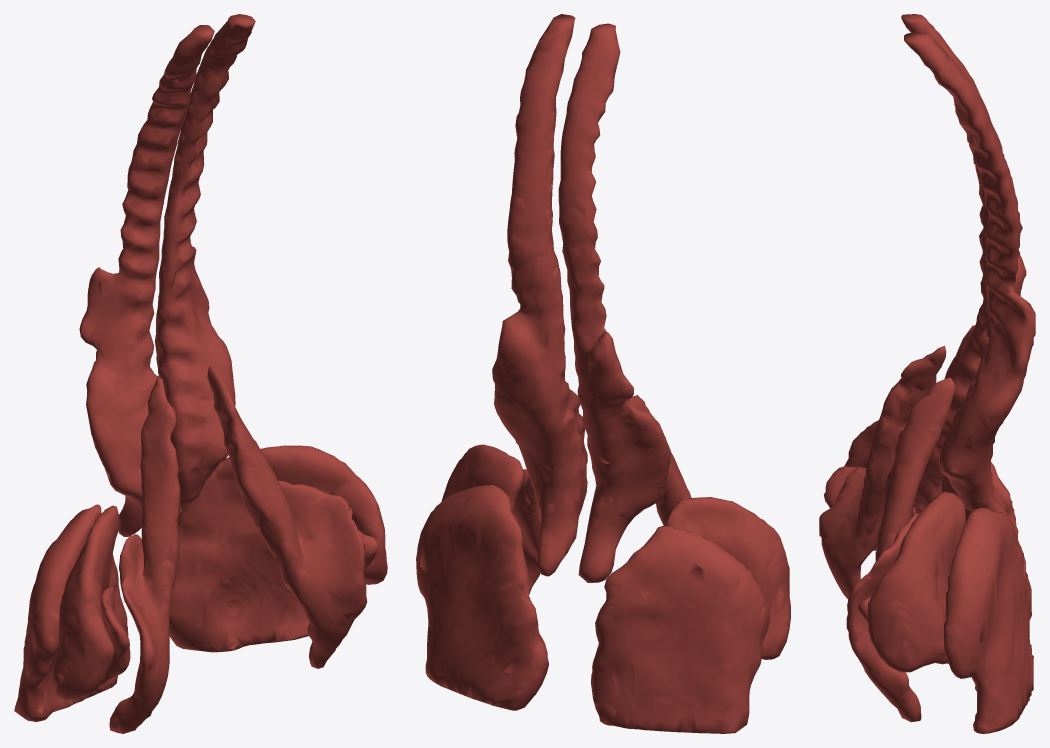
The model's file is tsd_s0196_older_adult_female.muscular.LOD3.glb.
3 renders of one model, left to right at view 1: azimuth 30°, elevation 25°; view 2: azimuth 150°, elevation 25°; view 3: azimuth 270°, elevation 25°, orthographic. The views are drawn at different scales.
Visible parts, largest first — view 1: TSD_S0196.OLDER_ADULT.FEMALE.MUSCULAR.ERECTOR_SPINAE_AUTOCHT (×2), TSD_S0196.OLDER_ADULT.FEMALE.MUSCULAR.GLUTEUS_MAXIMUS.L, TSD_S0196.OLDER_ADULT.FEMALE.MUSCULAR.ILIOPSOAS.L, TSD_S0196.OLDER_ADULT.FEMALE.MUSCULAR.ILIOPSOAS.R, TSD_S0196.OLDER_ADULT.FEMALE.MUSCULAR.GLUTEUS_MAXIMUS.R, TSD_S0196.OLDER_ADULT.FEMALE.MUSCULAR.GLUTEUS_MEDIUS.R, TSD_S0196.OLDER_ADULT.FEMALE.MUSCULAR.GLUTEUS_MEDIUS.L, TSD_S0196.OLDER_ADULT.FEMALE.MUSCULAR.GLUTEUS_MINIMUS.R; view 2: TSD_S0196.OLDER_ADULT.FEMALE.MUSCULAR.ERECTOR_SPINAE_AUTOCHT (×2), TSD_S0196.OLDER_ADULT.FEMALE.MUSCULAR.GLUTEUS_MAXIMUS.R, TSD_S0196.OLDER_ADULT.FEMALE.MUSCULAR.GLUTEUS_MAXIMUS.L, TSD_S0196.OLDER_ADULT.FEMALE.MUSCULAR.GLUTEUS_MEDIUS.R, TSD_S0196.OLDER_ADULT.FEMALE.MUSCULAR.GLUTEUS_MEDIUS.L, TSD_S0196.OLDER_ADULT.FEMALE.MUSCULAR.ILIOPSOAS.L, TSD_S0196.OLDER_ADULT.FEMALE.MUSCULAR.ILIOPSOAS.R; view 3: TSD_S0196.OLDER_ADULT.FEMALE.MUSCULAR.ERECTOR_SPINAE_AUTOCHT (×2), TSD_S0196.OLDER_ADULT.FEMALE.MUSCULAR.GLUTEUS_MAXIMUS.L, TSD_S0196.OLDER_ADULT.FEMALE.MUSCULAR.GLUTEUS_MEDIUS.L, TSD_S0196.OLDER_ADULT.FEMALE.MUSCULAR.ILIOPSOAS.L, TSD_S0196.OLDER_ADULT.FEMALE.MUSCULAR.ILIOPSOAS.R, TSD_S0196.OLDER_ADULT.FEMALE.MUSCULAR.GLUTEUS_MEDIUS.R, TSD_S0196.OLDER_ADULT.FEMALE.MUSCULAR.GLUTEUS_MAXIMUS.R, TSD_S0196.OLDER_ADULT.FEMALE.MUSCULAR.GLUTEUS_MINIMUS.R.
Part boxes in pixels (bbox=[...]): TSD_S0196.OLDER_ADULT.FEMALE.MUSCULAR.ERECTOR_SPINAE_AUTOCHT (×2): bbox=[79, 14, 255, 536]; TSD_S0196.OLDER_ADULT.FEMALE.MUSCULAR.GLUTEUS_MAXIMUS.L: bbox=[169, 457, 309, 652]; TSD_S0196.OLDER_ADULT.FEMALE.MUSCULAR.ILIOPSOAS.L: bbox=[207, 366, 367, 668]; TSD_S0196.OLDER_ADULT.FEMALE.MUSCULAR.ILIOPSOAS.R: bbox=[109, 376, 180, 733]; TSD_S0196.OLDER_ADULT.FEMALE.MUSCULAR.GLUTEUS_MAXIMUS.R: bbox=[14, 504, 128, 721]; TSD_S0196.OLDER_ADULT.FEMALE.MUSCULAR.GLUTEUS_MEDIUS.R: bbox=[52, 505, 119, 700]; TSD_S0196.OLDER_ADULT.FEMALE.MUSCULAR.GLUTEUS_MEDIUS.L: bbox=[260, 445, 387, 584]; TSD_S0196.OLDER_ADULT.FEMALE.MUSCULAR.GLUTEUS_MINIMUS.R: bbox=[100, 586, 130, 685]; TSD_S0196.OLDER_ADULT.FEMALE.MUSCULAR.ERECTOR_SPINAE_AUTOCHT (×2): bbox=[492, 14, 670, 582]; TSD_S0196.OLDER_ADULT.FEMALE.MUSCULAR.GLUTEUS_MAXIMUS.R: bbox=[591, 526, 770, 733]; TSD_S0196.OLDER_ADULT.FEMALE.MUSCULAR.GLUTEUS_MAXIMUS.L: bbox=[416, 485, 548, 710]; TSD_S0196.OLDER_ADULT.FEMALE.MUSCULAR.GLUTEUS_MEDIUS.R: bbox=[664, 497, 790, 659]; TSD_S0196.OLDER_ADULT.FEMALE.MUSCULAR.GLUTEUS_MEDIUS.L: bbox=[441, 444, 523, 512]; TSD_S0196.OLDER_ADULT.FEMALE.MUSCULAR.ILIOPSOAS.L: bbox=[512, 382, 587, 594]; TSD_S0196.OLDER_ADULT.FEMALE.MUSCULAR.ILIOPSOAS.R: bbox=[629, 395, 691, 525]; TSD_S0196.OLDER_ADULT.FEMALE.MUSCULAR.ERECTOR_SPINAE_AUTOCHT (×2): bbox=[901, 14, 1035, 528]; TSD_S0196.OLDER_ADULT.FEMALE.MUSCULAR.GLUTEUS_MAXIMUS.L: bbox=[944, 508, 1033, 733]; TSD_S0196.OLDER_ADULT.FEMALE.MUSCULAR.GLUTEUS_MEDIUS.L: bbox=[868, 492, 965, 672]; TSD_S0196.OLDER_ADULT.FEMALE.MUSCULAR.ILIOPSOAS.L: bbox=[846, 377, 955, 722]; TSD_S0196.OLDER_ADULT.FEMALE.MUSCULAR.ILIOPSOAS.R: bbox=[819, 345, 946, 599]; TSD_S0196.OLDER_ADULT.FEMALE.MUSCULAR.GLUTEUS_MEDIUS.R: bbox=[844, 420, 944, 550]; TSD_S0196.OLDER_ADULT.FEMALE.MUSCULAR.GLUTEUS_MAXIMUS.R: bbox=[915, 462, 1018, 538]; TSD_S0196.OLDER_ADULT.FEMALE.MUSCULAR.GLUTEUS_MINIMUS.R: bbox=[824, 466, 916, 550].
Size of the model in its own units: 0.2949 by 0.5507 by 0.1668.
